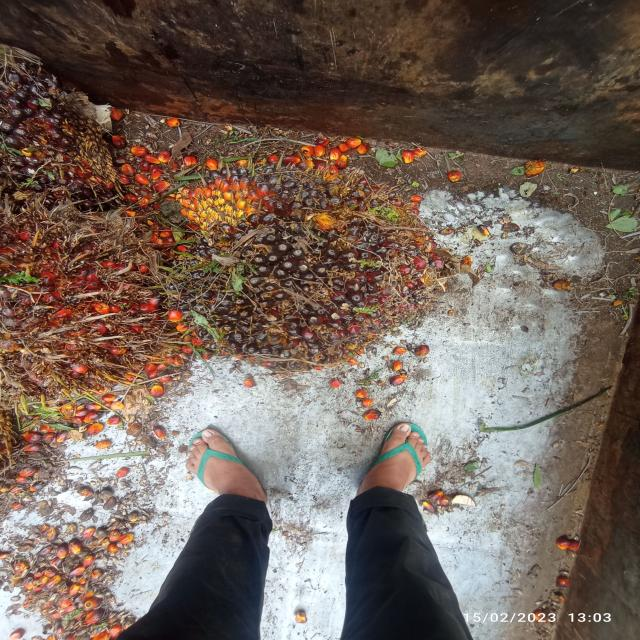fraksi 00: (103, 138, 485, 378)
